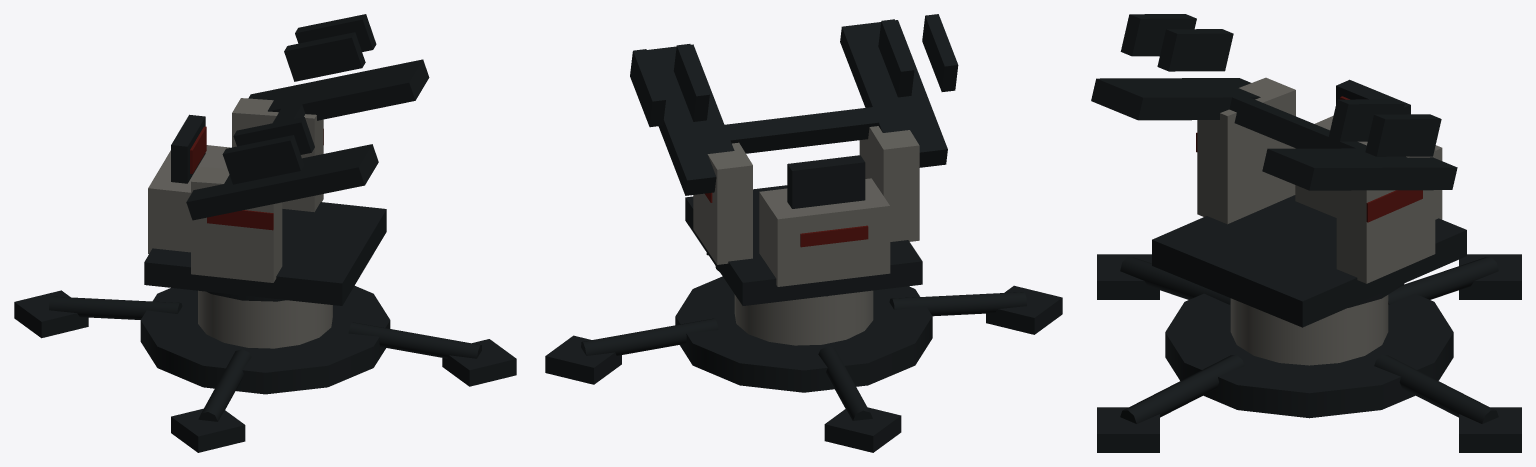
3 renders of one model, left to right at view 1: azimuth 30°, elevation 25°; view 2: azimuth 150°, elevation 25°; view 3: azimuth 270°, elevation 25°, orthographic. The views are drawn at different scales.
Visible parts, largest first — view 1: aa-missile-auto-fleet-machine, elevation-fleet-machine, turret-fleet-armor, turret-fleet-machine, aa-missile-auto-fleet-armor, radar-fleet-machine, turret-fleet-red; view 2: aa-missile-auto-fleet-machine, elevation-fleet-machine, turret-fleet-armor, turret-fleet-machine, aa-missile-auto-fleet-armor, radar-fleet-machine, turret-fleet-red; view 3: aa-missile-auto-fleet-machine, elevation-fleet-machine, turret-fleet-machine, turret-fleet-armor, aa-missile-auto-fleet-armor, turret-fleet-red, radar-fleet-machine.
Part boxes in pixels (box(x1,y1,x2,y2)): aa-missile-auto-fleet-machine: box(14, 285, 516, 452); elevation-fleet-machine: box(186, 14, 429, 220); turret-fleet-armor: box(148, 98, 323, 282); turret-fleet-machine: box(144, 202, 386, 305); aa-missile-auto-fleet-armor: box(198, 290, 332, 348); radar-fleet-machine: box(171, 114, 205, 183); turret-fleet-red: box(207, 129, 323, 230); aa-missile-auto-fleet-machine: box(545, 253, 1062, 452); elevation-fleet-machine: box(630, 14, 958, 195); turret-fleet-armor: box(693, 126, 919, 286); turret-fleet-machine: box(685, 185, 922, 305); aa-missile-auto-fleet-armor: box(734, 290, 873, 345); radar-fleet-machine: box(787, 155, 865, 208); turret-fleet-red: box(705, 192, 868, 247); aa-missile-auto-fleet-machine: box(1097, 254, 1521, 452); elevation-fleet-machine: box(1091, 14, 1457, 190); turret-fleet-machine: box(1152, 195, 1466, 327); turret-fleet-armor: box(1197, 77, 1442, 283); aa-missile-auto-fleet-armor: box(1230, 295, 1388, 365); turret-fleet-red: box(1196, 132, 1422, 222); radar-fleet-machine: box(1336, 79, 1410, 114).
Bounding box in the file's own units: 22.95 × 18.75 × 22.95.
